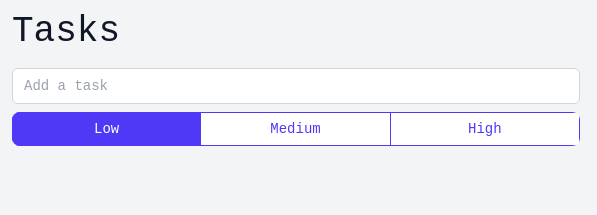
Test case: AllTasks.vue › adds a task when the enter key is pressed
In the field with placeholder "Add a task": (296, 86) [12,68,580,104], type "New Task"
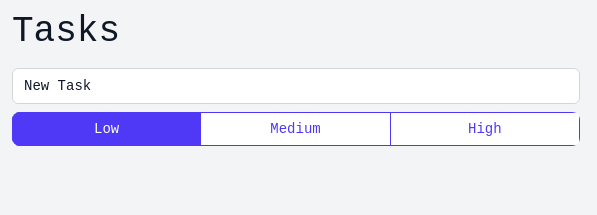
Press Enter in the field, box [12,68,580,104]
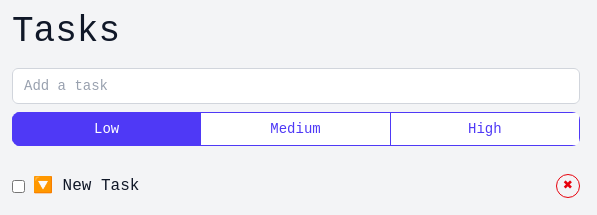
Now the text "New Task" is shown, box [63,177,139,195]
